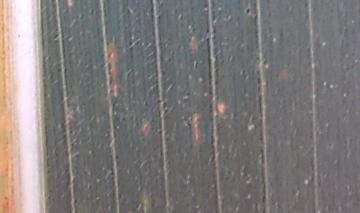tarspot: (193, 60, 200, 72), (244, 6, 251, 15), (120, 114, 127, 123), (15, 31, 21, 39), (326, 141, 332, 147)
